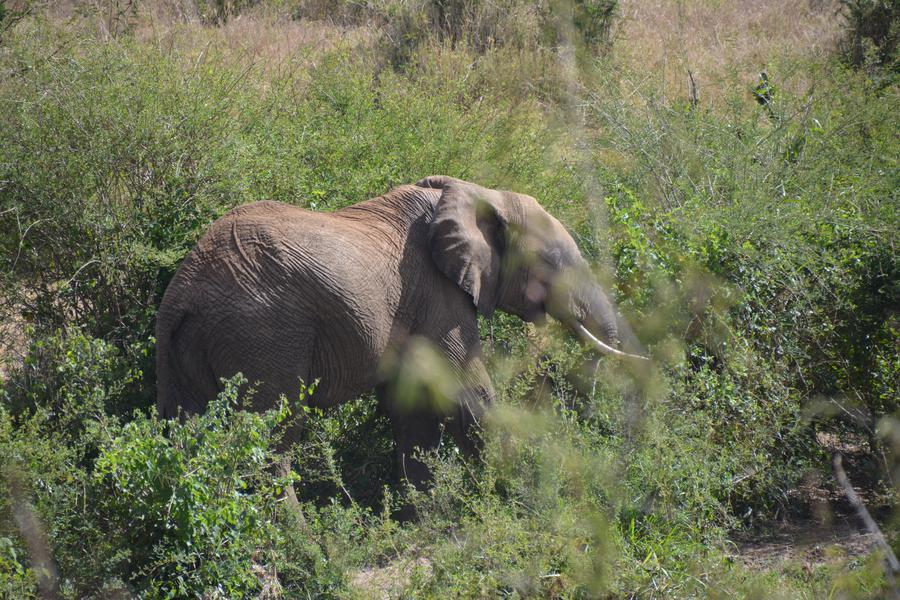elephant: (159, 171, 589, 427)
